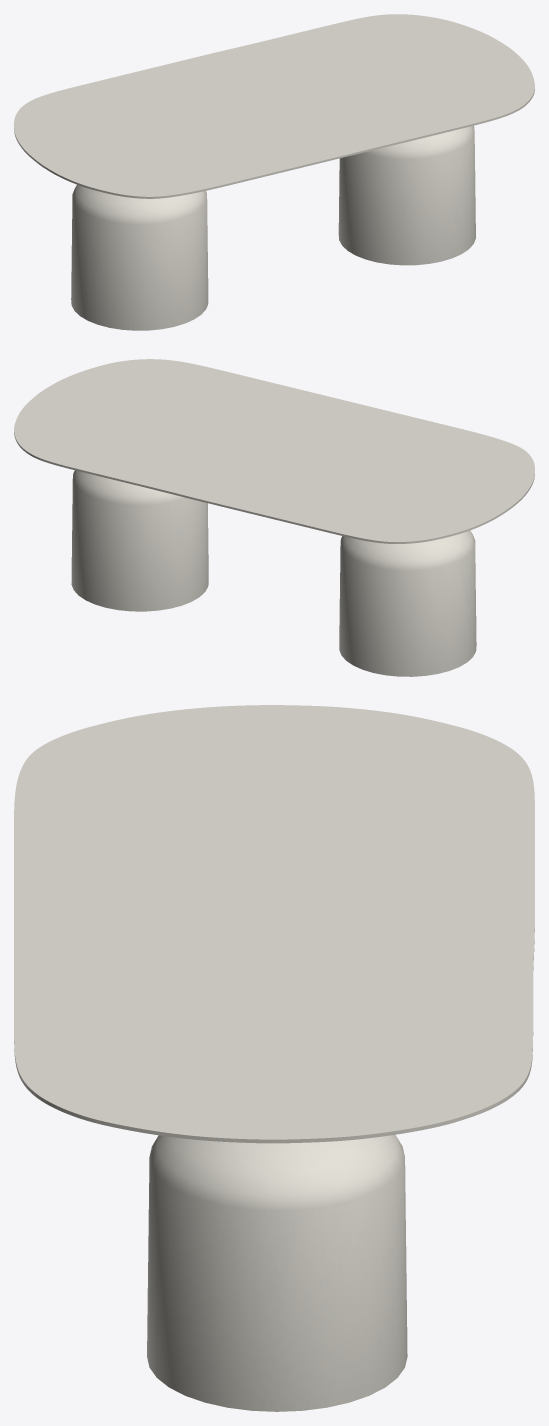
File: pale_oval_facet_tornado.glb
3 views of the same model, one above another, from view 1: azimuth 30°, elevation 25°; view 2: azimuth 150°, elevation 25°; view 3: azimuth 270°, elevation 25° (orthographic). The views are drawn at different scales.
Visible parts, largest first — view 1: facet_oval, tornado; view 2: facet_oval, tornado; view 3: facet_oval, tornado.
Boxes of the visible parts, box(x1,y1,x2,y2) form: facet_oval: box(14, 14, 534, 198); tornado: box(71, 126, 475, 330); facet_oval: box(14, 359, 534, 543); tornado: box(71, 470, 476, 676); facet_oval: box(14, 705, 534, 1143); tornado: box(147, 1134, 407, 1411).
Bounding box in the file's own units: 7.5 × 2.5 × 3.8.
1 material, 1 textured.
